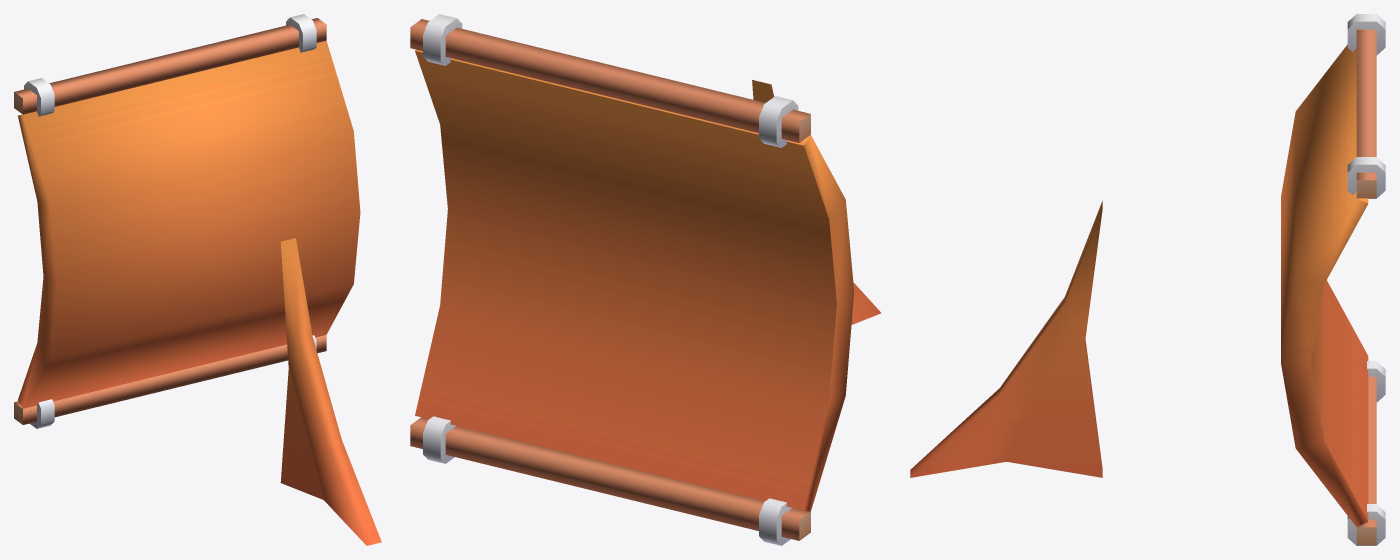
The model's file is sail_orange.glb.
3 renders of one model, left to right at view 1: azimuth 30°, elevation 25°; view 2: azimuth 150°, elevation 25°; view 3: azimuth 270°, elevation 25°, orthographic. The views are drawn at different scales.
Parts seen in each view (by area): view 1: sail-a_orange; view 2: sail-a_orange; view 3: sail-a_orange.
Part boxes in pixels (x1,y1,x2,y2): sail-a_orange: (14,14,381,545); sail-a_orange: (410,14,881,545); sail-a_orange: (910,14,1385,545).
Bounding box in the file's own units: 4.4 × 4.76 × 5.33.
1 material, 1 textured.
